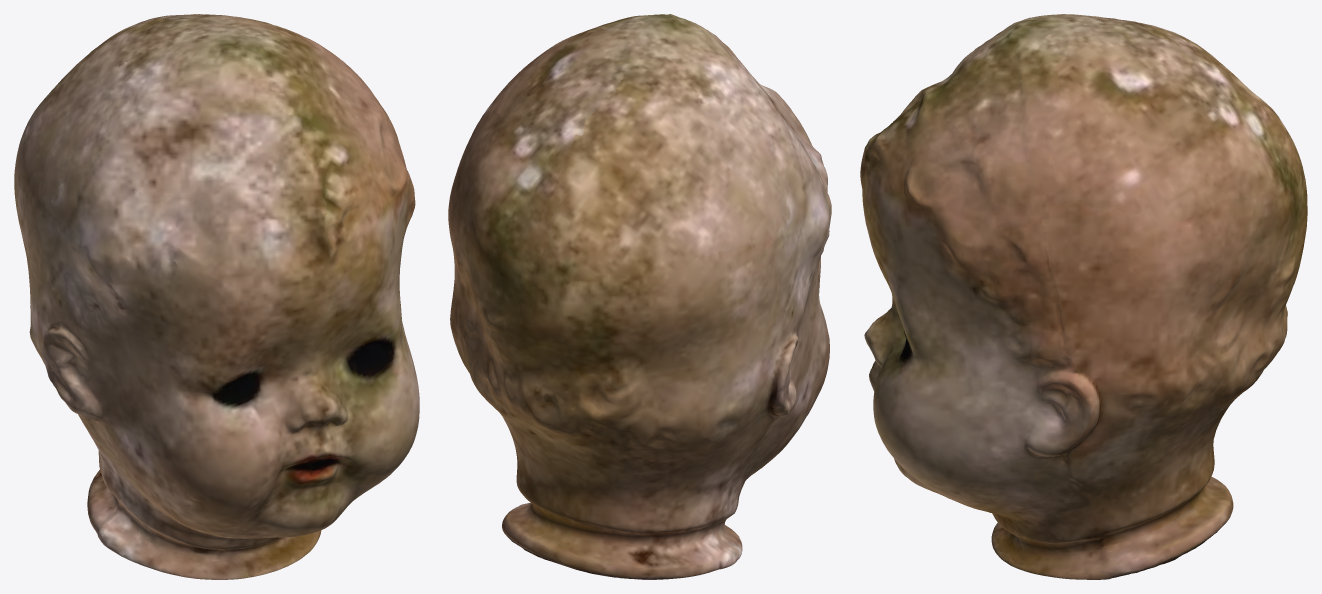
File: dollhead.glb
3 renders of one model, left to right at view 1: azimuth 30°, elevation 25°; view 2: azimuth 150°, elevation 25°; view 3: azimuth 270°, elevation 25°, orthographic.
Parts seen in each view (by area): view 1: Object_3; view 2: Object_3; view 3: Object_3.
Boxes of the visible parts, box(x1,y1,x2,y2) form: Object_3: box(14, 14, 419, 579); Object_3: box(448, 14, 831, 579); Object_3: box(860, 14, 1307, 579).
Bounding box in the file's own units: 1.85 × 2.73 × 2.16.
Materials: 1 (1 with a texture image).
